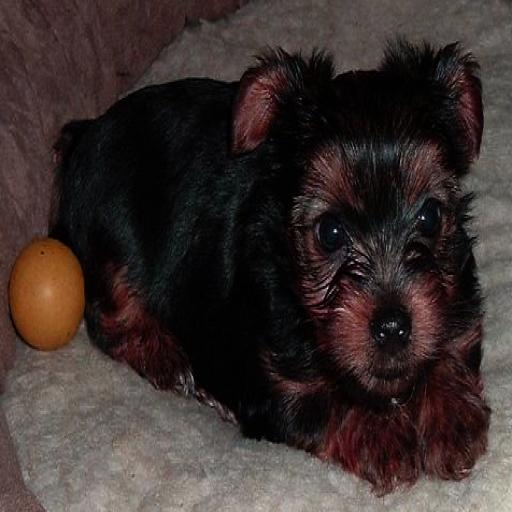dog_face: (239, 59, 472, 383)
